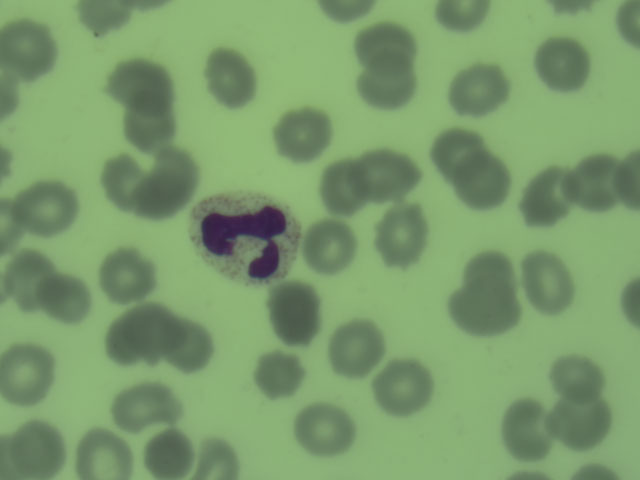RBC: (106, 380, 182, 434), (446, 289, 526, 337), (547, 393, 607, 448), (75, 427, 130, 479), (141, 427, 194, 480), (375, 209, 428, 261), (361, 154, 414, 206), (519, 171, 572, 223), (567, 157, 620, 209), (274, 108, 327, 160), (454, 65, 507, 117), (534, 39, 587, 91), (377, 362, 430, 414), (331, 323, 384, 375), (251, 351, 304, 403), (271, 289, 324, 341), (155, 315, 208, 367), (102, 310, 155, 362), (11, 422, 64, 474), (101, 249, 154, 301), (37, 273, 90, 325), (203, 53, 256, 105), (97, 152, 150, 204), (144, 163, 197, 215), (123, 96, 176, 148), (111, 57, 164, 109), (18, 181, 71, 233), (361, 56, 414, 108), (358, 19, 411, 71), (457, 157, 510, 209), (430, 128, 483, 180), (499, 403, 552, 455), (549, 351, 602, 403), (459, 248, 512, 300), (524, 255, 577, 307), (302, 220, 355, 272), (317, 161, 370, 213), (299, 403, 351, 455), (1, 347, 53, 399), (1, 254, 53, 306), (1, 22, 52, 74), (73, 1, 134, 37), (191, 438, 240, 480), (430, 1, 491, 33), (609, 154, 640, 213), (606, 1, 640, 48), (306, 1, 379, 22), (1, 199, 26, 254)
WBC: (187, 189, 301, 289)
